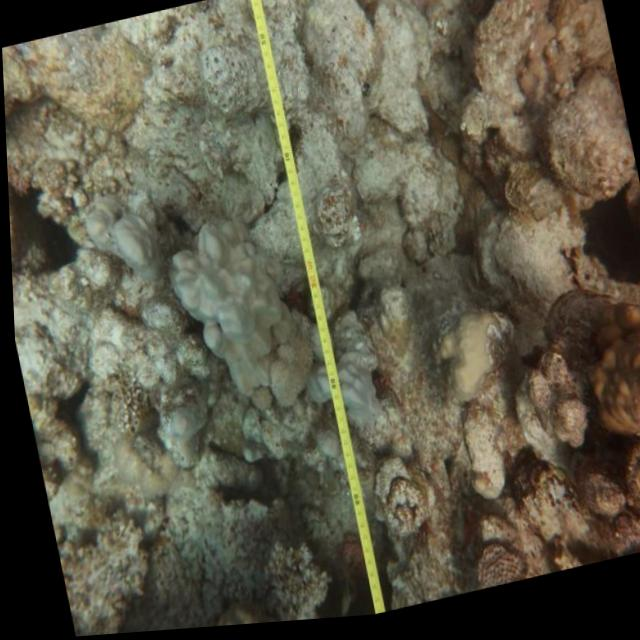Bleached Coral: (159, 212, 288, 398)
Healthy Coral: (568, 308, 640, 450)
